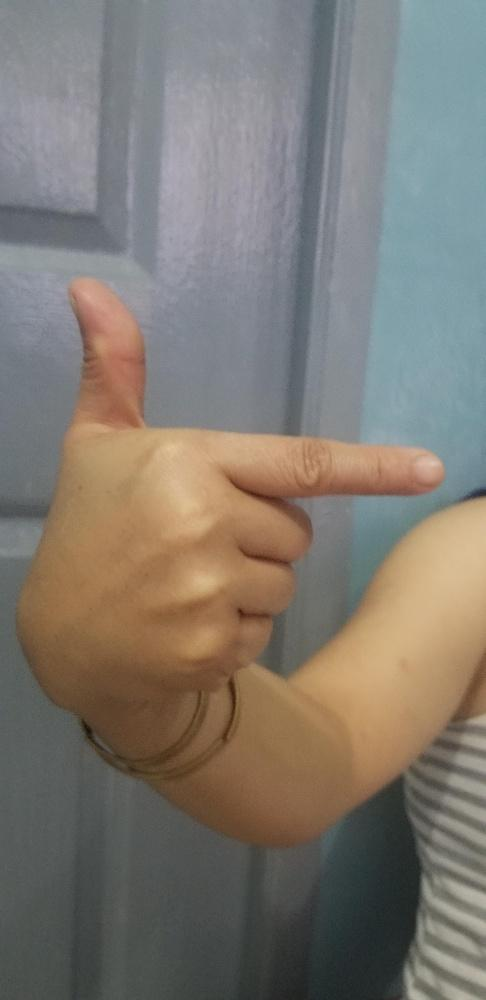g: (10, 274, 444, 710)
